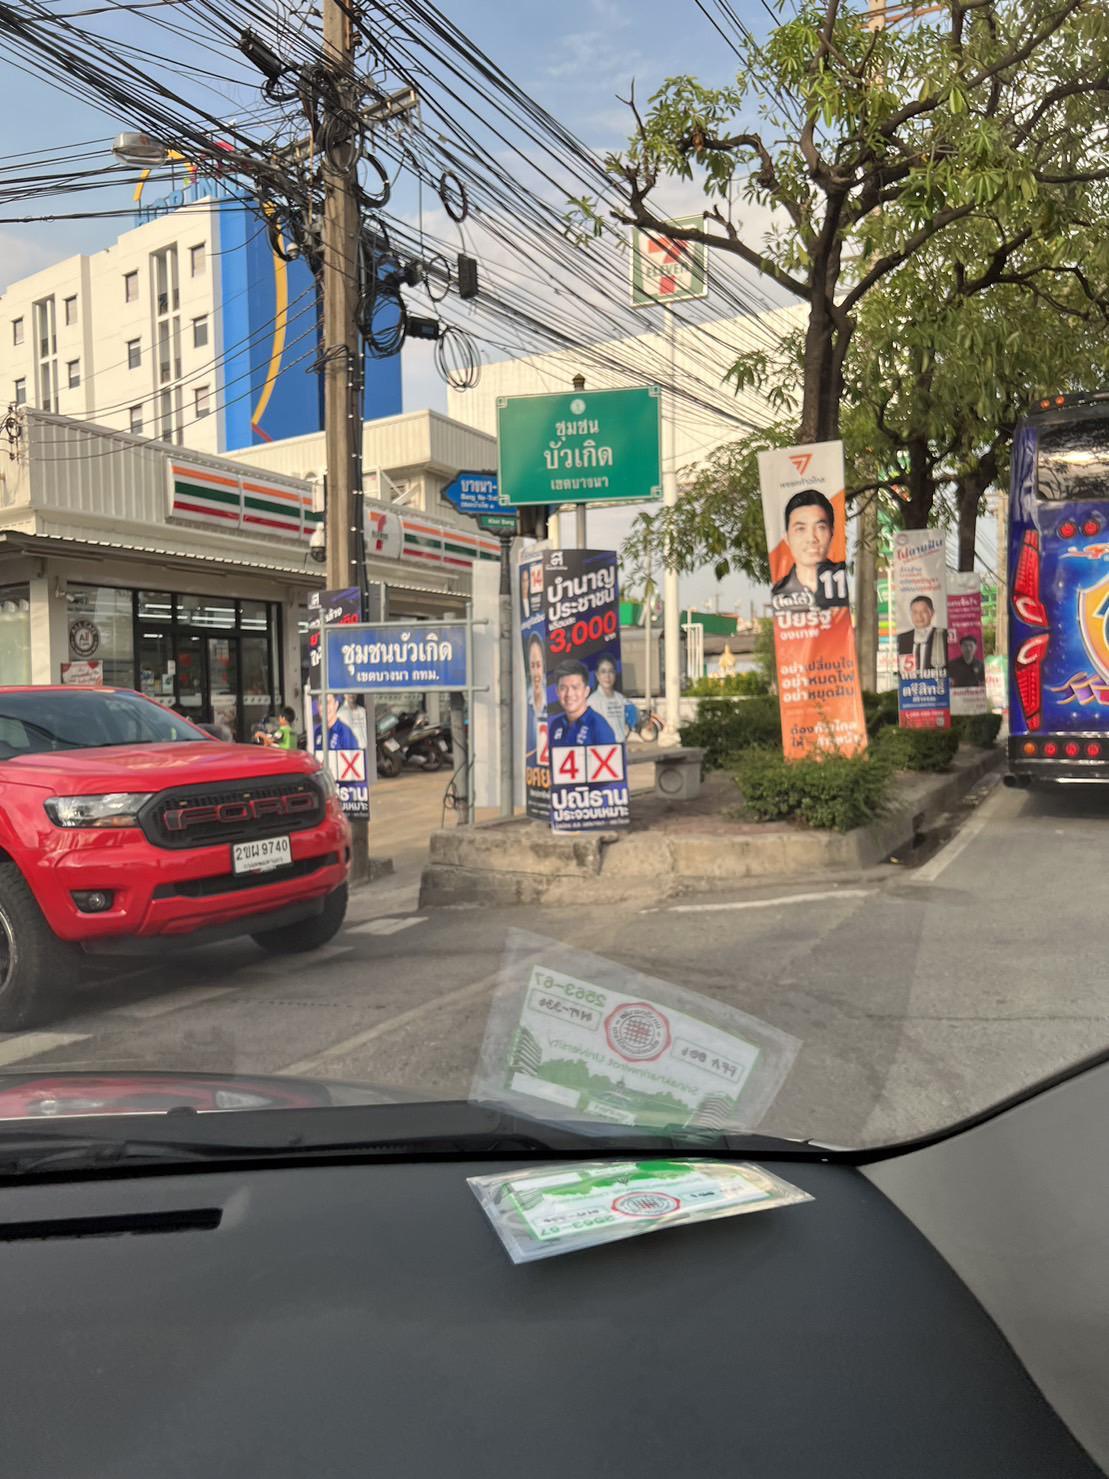Banner: (748, 430, 878, 774)
